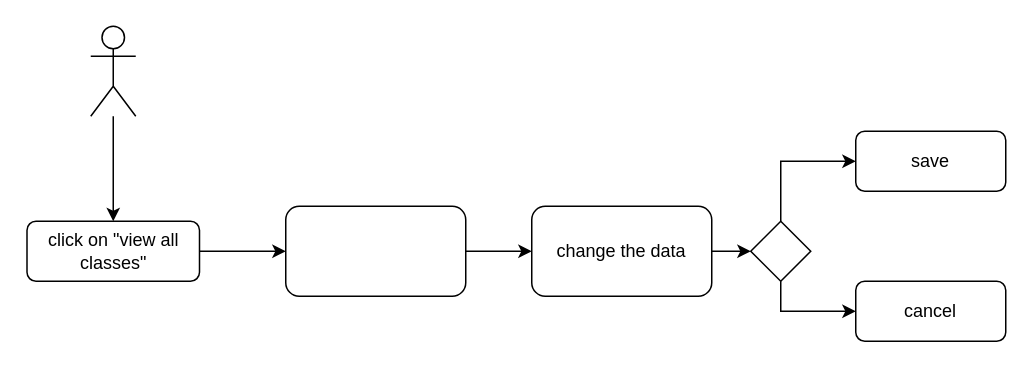
Image size: 1032x368. Some labels were removed from this diagram. Each missing label, with the box of its shape:
Admin: (89, 25, 136, 116)
choose one class and click on "edit class": (284, 205, 466, 296)
